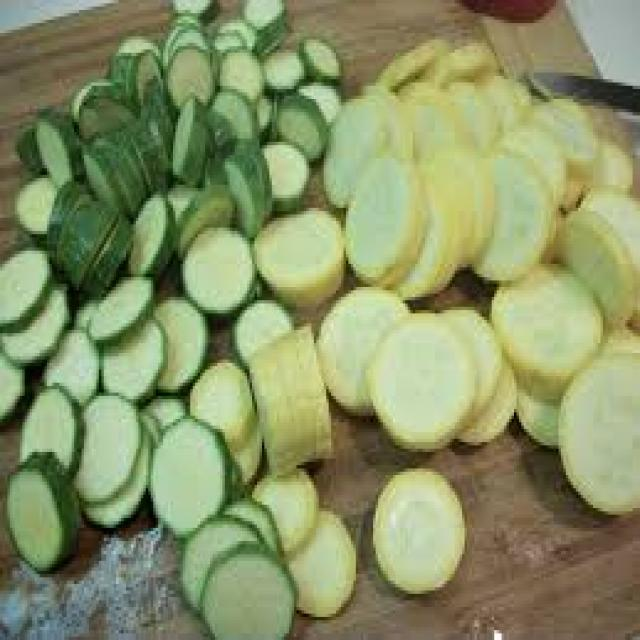organic waste: (361, 304, 474, 446), (487, 261, 600, 386), (554, 346, 638, 512), (245, 316, 331, 468), (314, 277, 408, 416), (368, 465, 462, 587), (343, 152, 425, 290), (551, 201, 635, 333), (465, 142, 546, 274), (319, 89, 410, 205), (146, 412, 230, 534), (252, 201, 346, 310), (44, 175, 131, 290), (195, 534, 292, 637), (400, 138, 460, 304), (5, 448, 79, 570), (70, 386, 144, 501), (178, 511, 264, 607), (284, 504, 356, 614), (72, 422, 148, 525), (79, 112, 168, 198), (438, 304, 494, 432), (178, 224, 257, 314), (447, 350, 519, 442), (580, 182, 638, 290), (15, 379, 81, 468), (94, 314, 163, 399), (146, 287, 205, 386), (247, 465, 314, 551), (529, 89, 598, 172), (0, 277, 69, 360), (82, 267, 158, 337), (168, 178, 235, 257), (185, 356, 247, 439), (37, 320, 99, 402), (222, 135, 270, 238), (398, 76, 462, 152), (512, 122, 568, 208), (124, 188, 176, 280), (0, 241, 52, 330), (215, 491, 279, 561), (32, 99, 84, 185), (580, 129, 638, 201), (101, 40, 161, 106), (272, 86, 324, 162), (165, 92, 212, 175), (230, 297, 292, 359), (511, 376, 561, 449), (259, 142, 309, 211), (222, 409, 262, 495), (163, 40, 215, 102), (74, 79, 131, 135), (370, 36, 444, 79), (452, 70, 497, 136), (210, 79, 259, 139), (141, 72, 170, 172), (423, 36, 494, 76), (136, 389, 185, 439), (489, 66, 529, 125), (294, 76, 341, 125), (12, 172, 52, 228), (217, 43, 262, 89), (66, 73, 108, 122), (294, 30, 336, 76), (257, 43, 301, 86), (596, 314, 638, 356), (0, 353, 25, 422), (163, 20, 208, 56), (200, 102, 235, 145), (12, 122, 42, 172), (556, 175, 591, 211), (163, 175, 195, 214), (239, 0, 284, 26), (250, 20, 286, 49), (247, 85, 269, 128), (116, 29, 156, 52), (202, 139, 225, 178), (173, 0, 220, 16), (138, 402, 156, 436), (225, 452, 240, 492), (168, 7, 195, 23)
